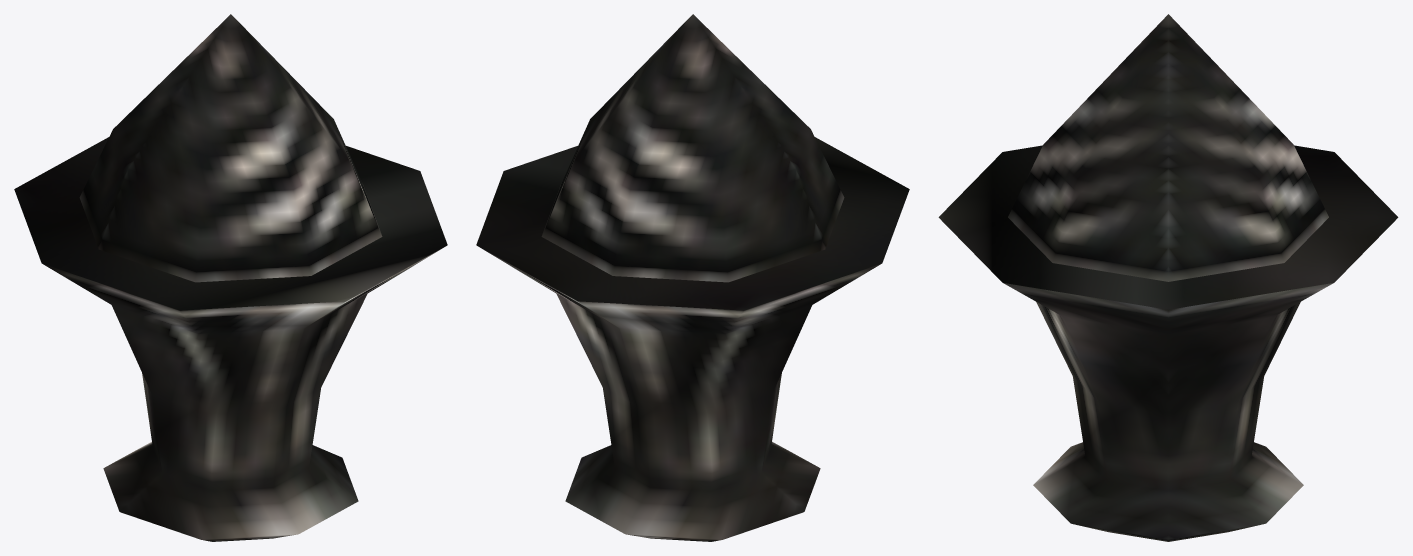
File: heitie_tail_default.FBX
The picture shows the model from 3 angles, left to right: view 1: azimuth 30°, elevation 25°; view 2: azimuth 150°, elevation 25°; view 3: azimuth 270°, elevation 25°; orthographic projection.
Visible parts, largest first — view 1: heitie_tail_default; view 2: heitie_tail_default; view 3: heitie_tail_default.
Part boxes in pixels (left/top/right/bottom): heitie_tail_default: left=14, top=14, right=447, bottom=541; heitie_tail_default: left=476, top=14, right=909, bottom=541; heitie_tail_default: left=938, top=14, right=1398, bottom=541.
Bounding box in the file's own units: 13.39 × 16.7 × 14.08.
Materials: 1 (1 with a texture image).
